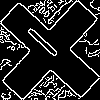I: (25, 25, 68, 66)
